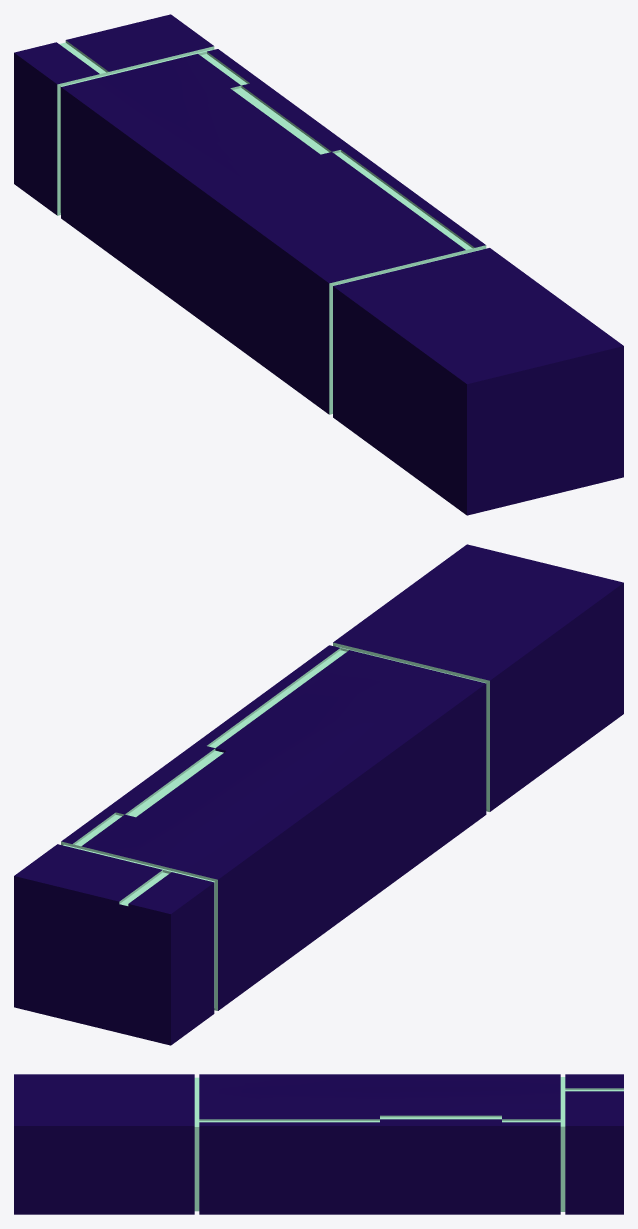
Rendered from PieceOnOcean.fbx.
The picture shows the model from 3 angles, top to bottom: view 1: azimuth 30°, elevation 25°; view 2: azimuth 150°, elevation 25°; view 3: azimuth 270°, elevation 25°; orthographic projection. The views are drawn at different scales.
Visible parts, largest first — view 1: Box064; view 2: Box064; view 3: Box064.
Part boxes in pixels (bbox=[...]): Box064: bbox=[14, 14, 623, 515]; Box064: bbox=[14, 544, 623, 1045]; Box064: bbox=[14, 1074, 623, 1214].
Size of the model in its own units: 254 by 205 by 1270.
